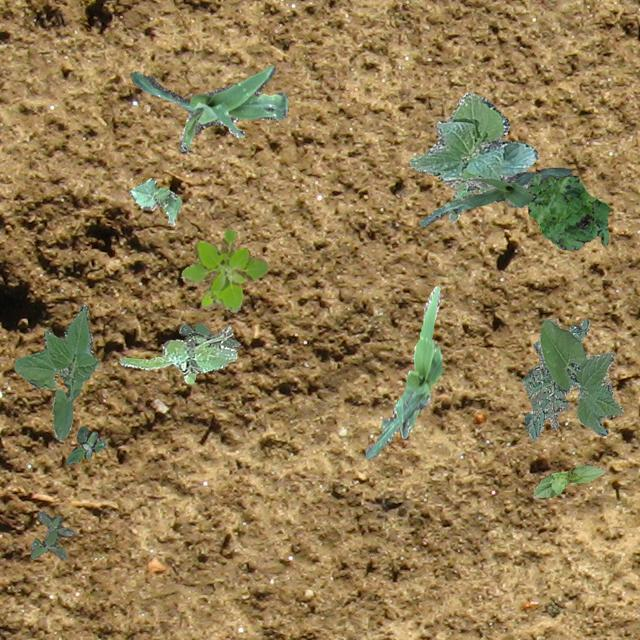crop: (408, 92, 536, 222), (130, 64, 288, 152), (364, 284, 440, 458), (13, 304, 98, 439), (536, 318, 622, 434), (419, 167, 572, 226), (532, 462, 604, 498), (128, 178, 180, 225)
weed: (522, 318, 588, 440), (180, 228, 266, 312), (118, 326, 236, 382), (528, 172, 608, 250), (29, 510, 72, 560), (178, 322, 240, 348), (64, 426, 106, 464)
